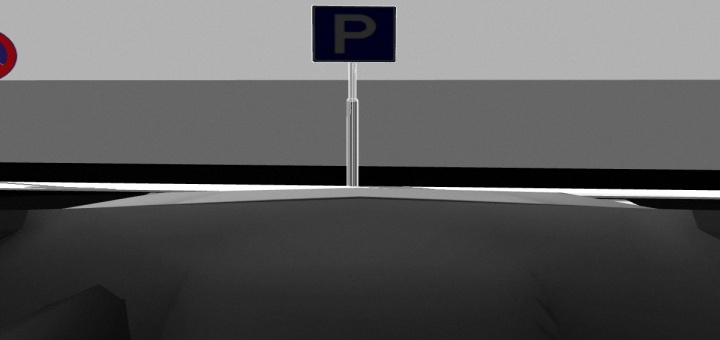park: (307, 5, 400, 66)
